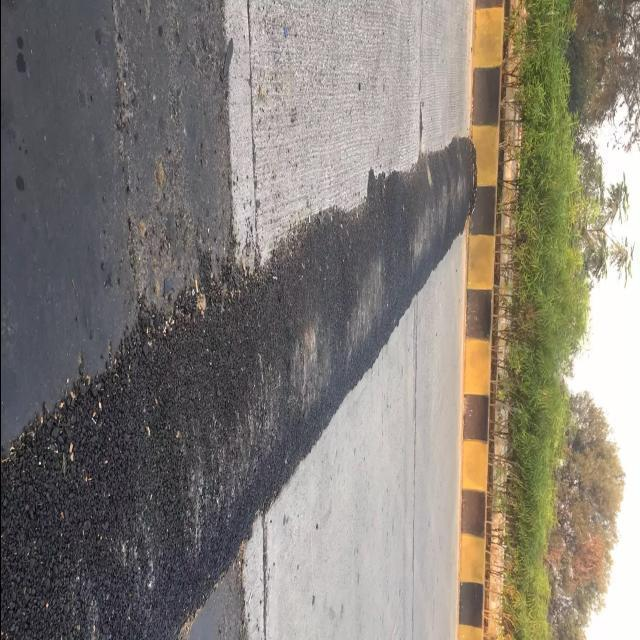speedbreaker: (16, 116, 477, 640)
